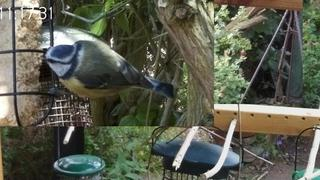blue tit: (40, 40, 174, 100)
